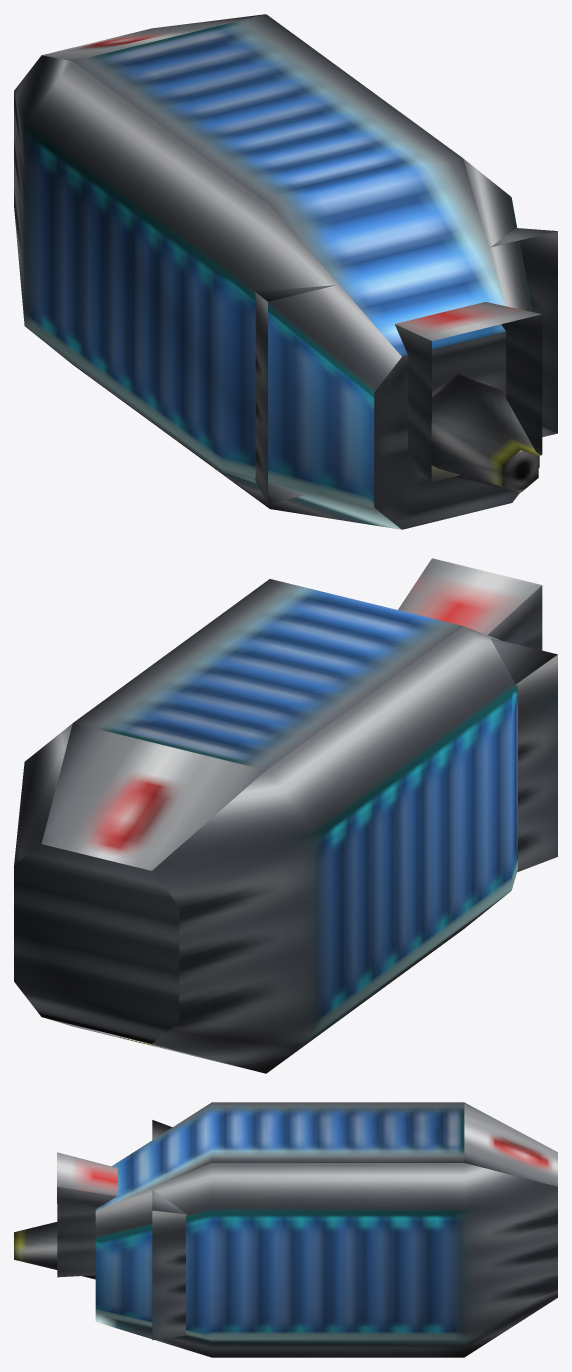
The model's file is wep06_static.obj.
The picture shows the model from 3 angles, top to bottom: view 1: azimuth 30°, elevation 25°; view 2: azimuth 150°, elevation 25°; view 3: azimuth 270°, elevation 25°; orthographic projection. The views are drawn at different scales.
Parts seen in each view (by area): view 1: frm-wepbas1, frm-wepbas2, frm-wepbar, frm-wepbas3; view 2: frm-wepbas1, frm-wepbas3, frm-wepbas2; view 3: frm-wepbas1, frm-wepbas2, frm-wepbas3, frm-wepbar.
Part boxes in pixels (x1,y1,x2,y2): frm-wepbas1: (14, 14, 539, 529); frm-wepbas2: (395, 302, 542, 481); frm-wepbar: (431, 372, 538, 492); frm-wepbas3: (255, 228, 557, 503); frm-wepbas1: (14, 579, 517, 1073); frm-wepbas3: (490, 638, 557, 872); frm-wepbas2: (398, 558, 542, 650); frm-wepbas1: (95, 1102, 557, 1357); frm-wepbas2: (57, 1152, 117, 1277); frm-wepbas3: (152, 1120, 187, 1340); frm-wepbar: (14, 1222, 95, 1279).
Bounding box in the file's own units: 0.1883 × 0.1883 × 0.477.
